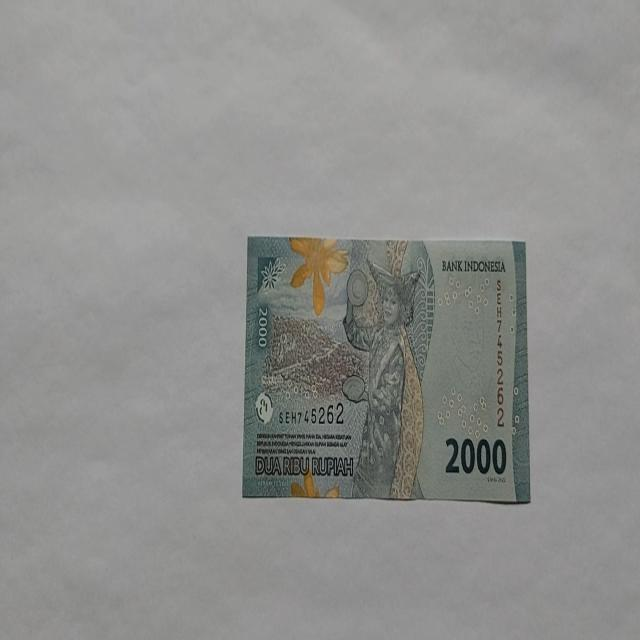dua ribu rupiah: (242, 234, 530, 503), (341, 256, 426, 499), (288, 235, 350, 316)
